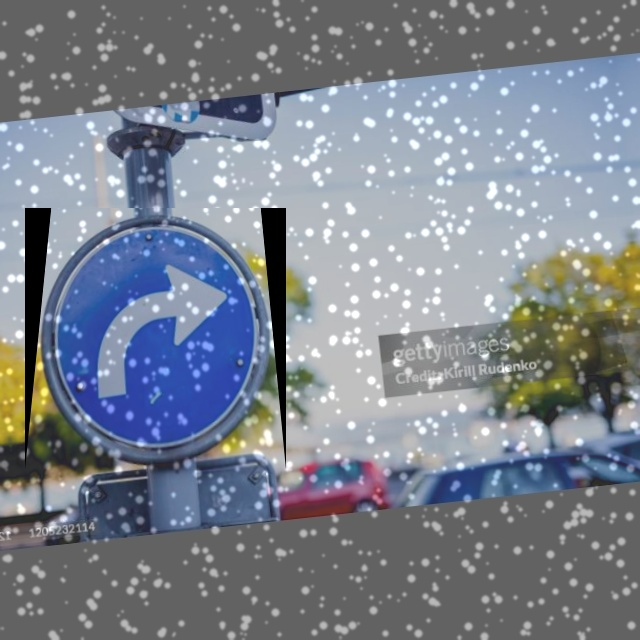Compulsory_Turn_Right_Ahead: (25, 208, 286, 470)
